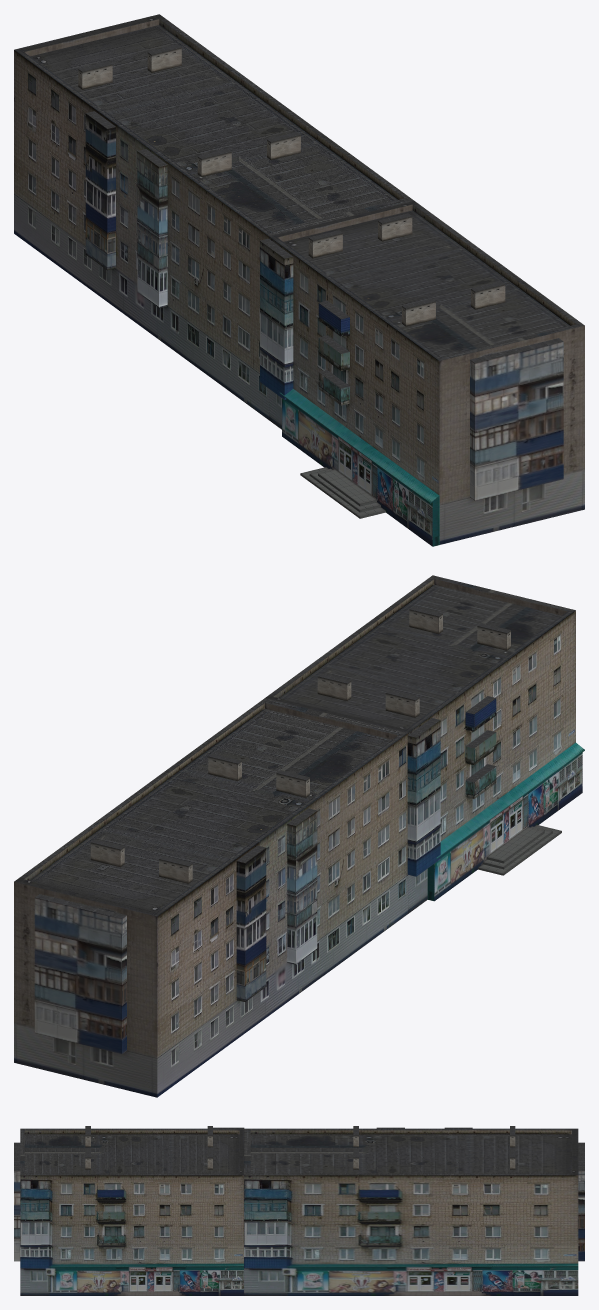
The picture shows the model from 3 angles, top to bottom: view 1: azimuth 30°, elevation 25°; view 2: azimuth 150°, elevation 25°; view 3: azimuth 270°, elevation 25°; orthographic projection. The views are drawn at different scales.
Parts seen in each view (by area): view 1: Box002; view 2: Box002; view 3: Box002.
Part boxes in pixels (<box>): Box002: <box>14,14,584,546</box>; Box002: <box>14,575,584,1097</box>; Box002: <box>14,1126,584,1295</box>.
Bounding box in the file's own units: 15.44 × 16.23 × 65.31.
Materials: 1 (1 with a texture image).
